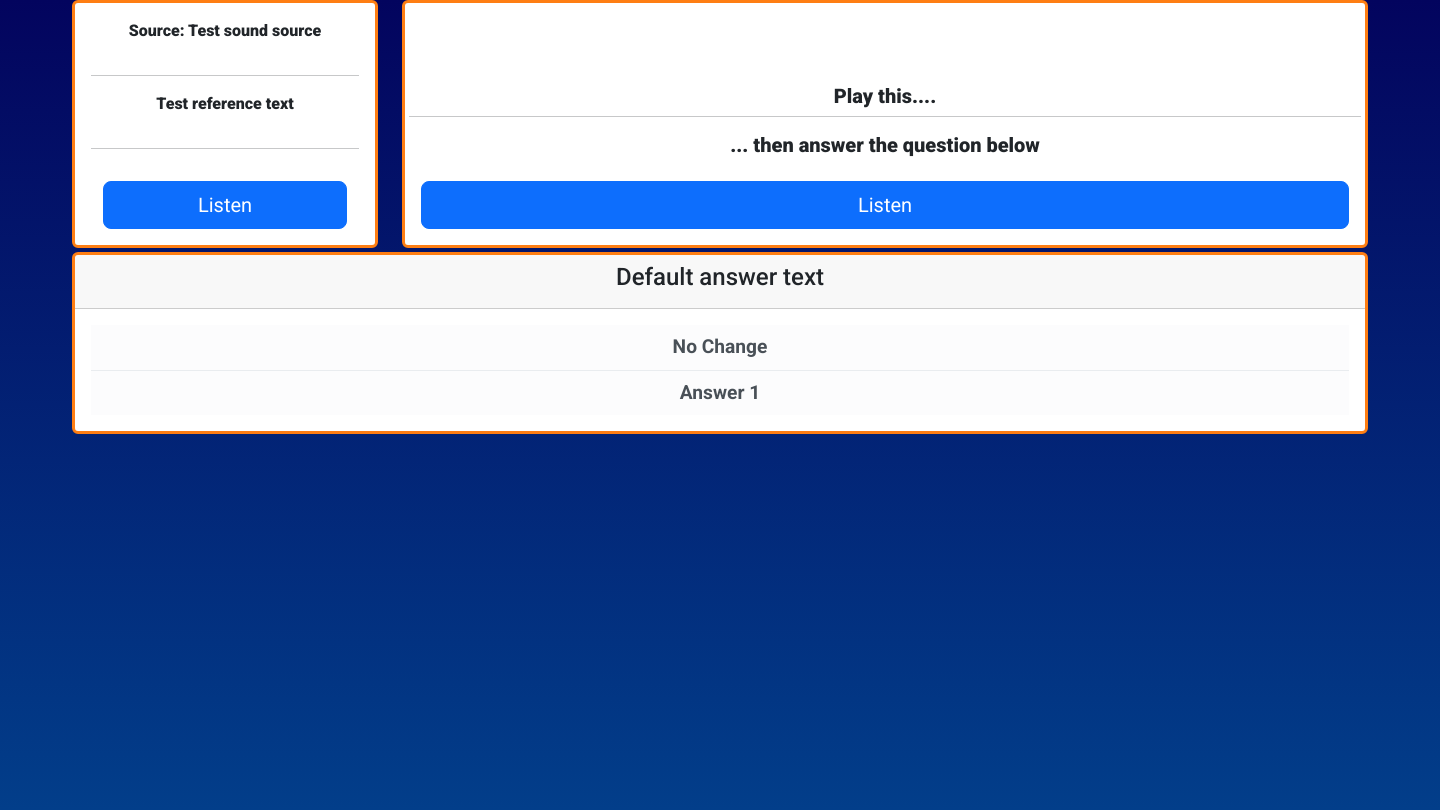
Test: Question Component › handles submission correctly
# click on wrong answer 'No Change'
Click the button "No Change": (720, 348) [91,325,1349,371]
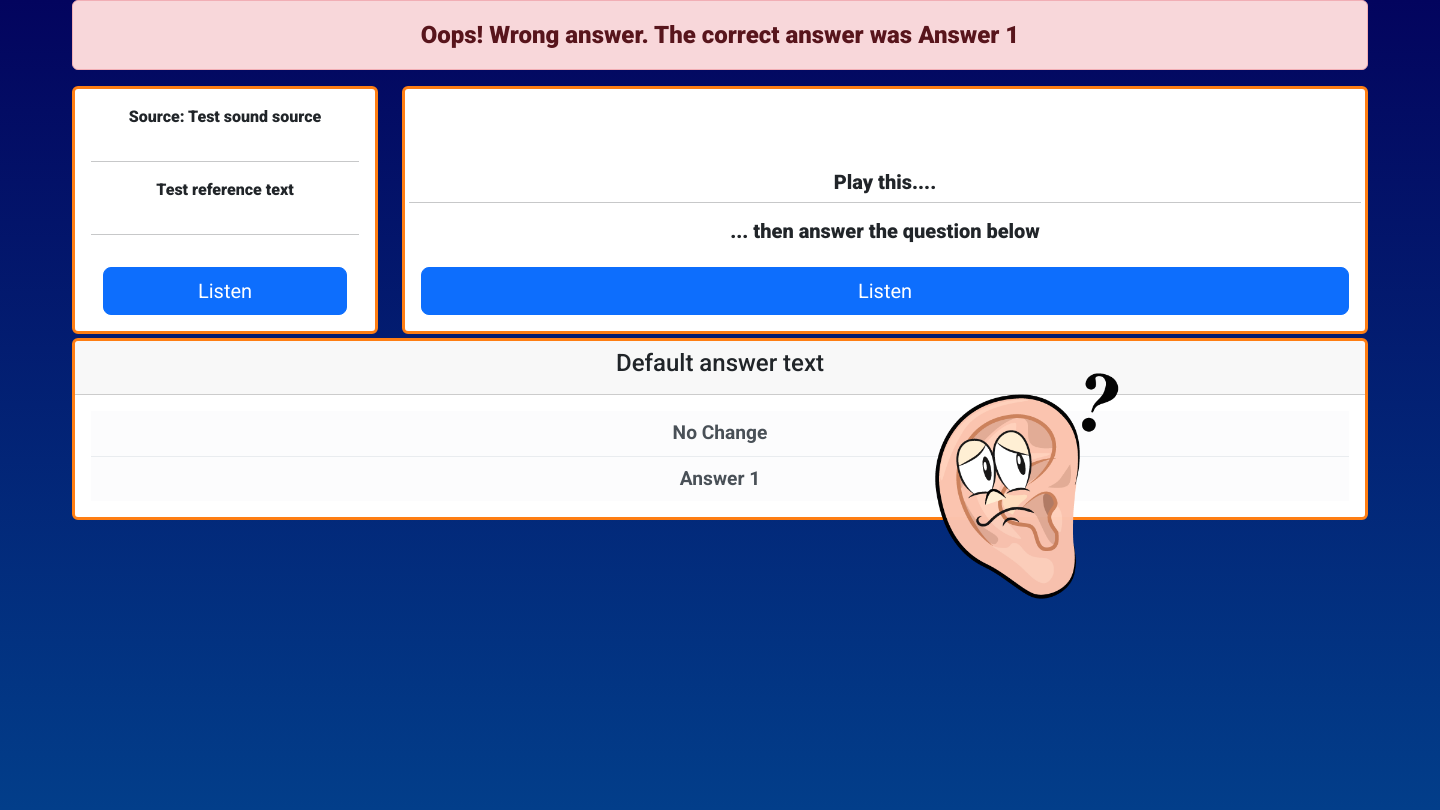
Check: the text "Oops! Wrong answer. The correct answer was Answer 1" is shown, box [72,0,1368,70]
